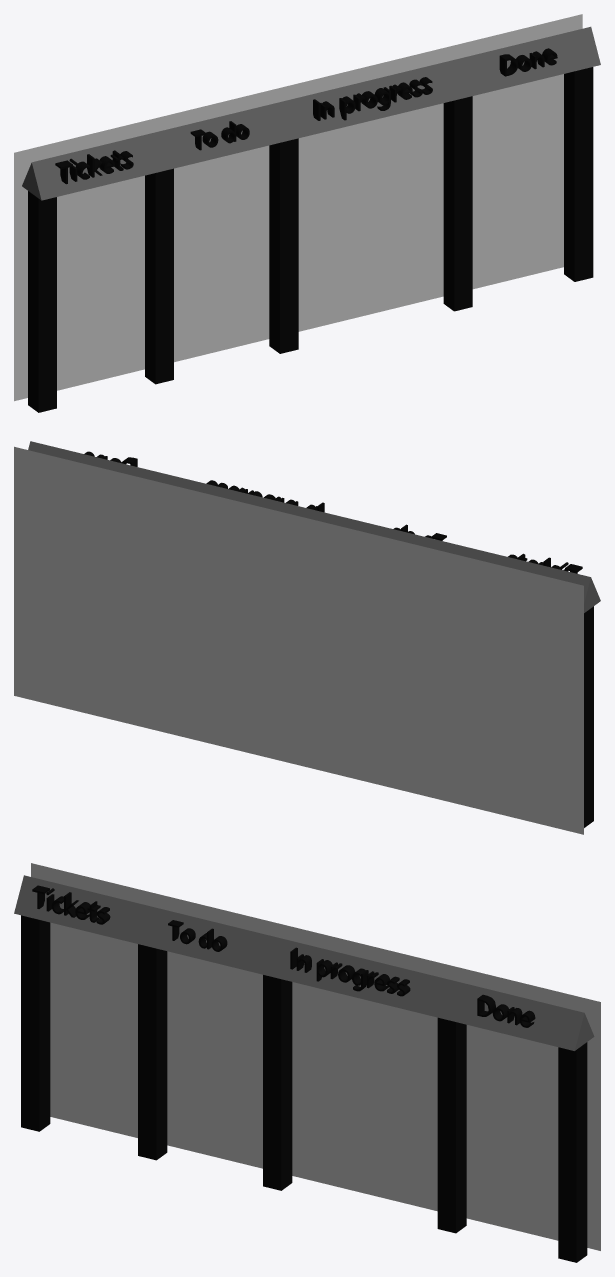
File: Tble final.fbx
3 renders of one model, top to bottom at view 1: azimuth 30°, elevation 25°; view 2: azimuth 150°, elevation 25°; view 3: azimuth 330°, elevation 25°, orthographic.
Visible parts, largest first — view 1: root (×7), node_id90, node_id108, node_id99, node_id83; view 2: root (×3), node_id90; view 3: root (×7), node_id90, node_id108, node_id99, node_id83.
Part boxes in pixels (x1,y1,x2,y2): root (×7): (14,14,600,412); node_id90: (313,77,432,120); node_id108: (55,150,133,184); node_id99: (499,48,557,76); node_id83: (190,121,249,150); root (×3): (14,441,600,834); node_id90: (206,480,324,512); root (×7): (14,863,600,1262); node_id90: (290,947,410,996); node_id108: (32,885,110,924); node_id99: (477,994,535,1027); node_id83: (168,920,227,951).
Size of the model in its own units: 0.862 by 0.361 by 0.0603.
7 materials, 2 textured.
